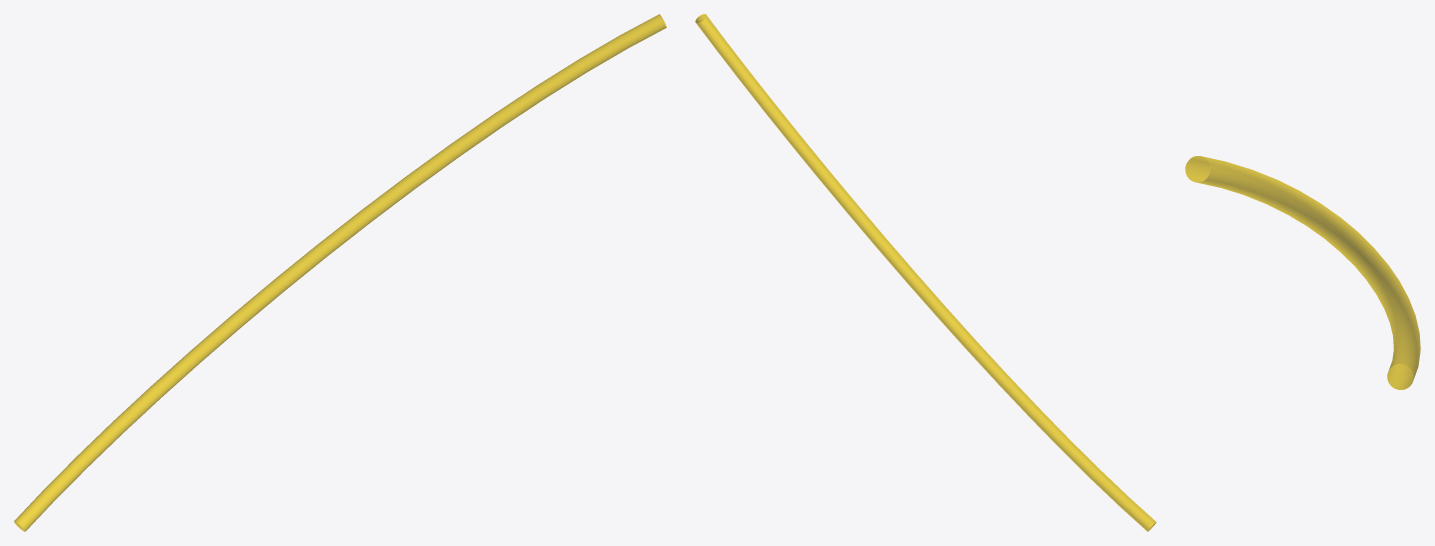
File: Event_419990632_track_44.fbx
3 views of the same model, side by side, from view 1: azimuth 30°, elevation 25°; view 2: azimuth 150°, elevation 25°; view 3: azimuth 270°, elevation 25° (orthographic). The views are drawn at different scales.
Parts seen in each view (by area): view 1: Model; view 2: Model; view 3: Model.
Part boxes in pixels (x1=…): Model: x1=14, y1=14, x2=666, y2=531; Model: x1=695, y1=14, x2=1156, y2=531; Model: x1=1185, y1=156, x2=1420, y2=389.
Bounding box in the file's own units: 1.75 × 1.18 × 0.351.
